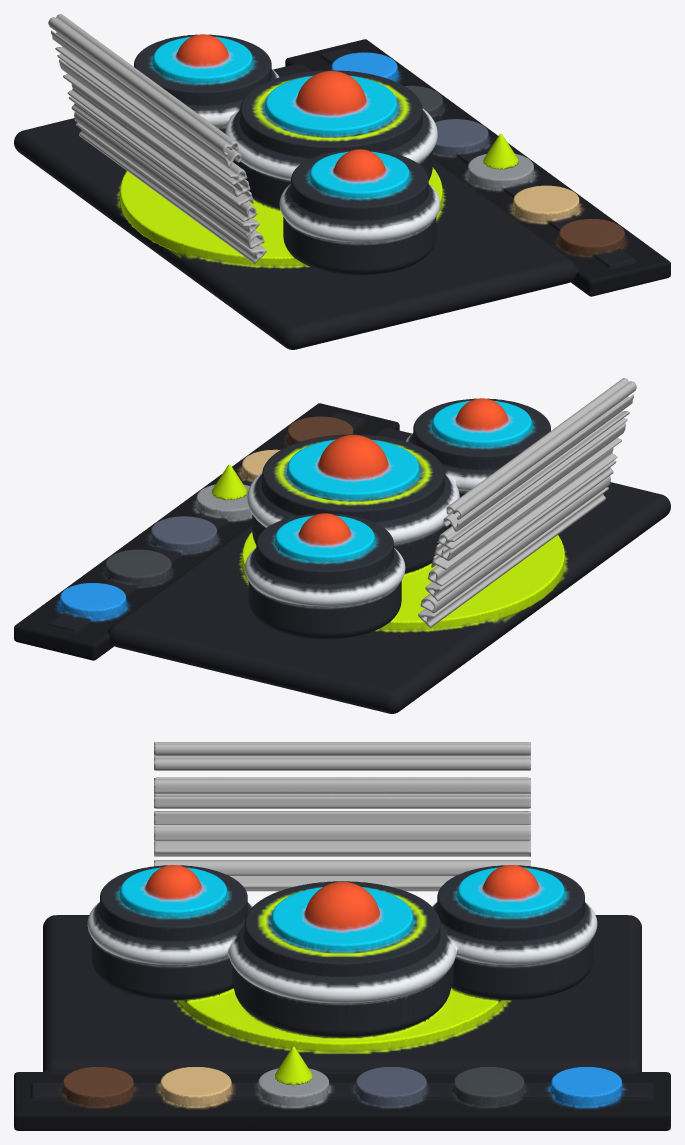
File: adapter_model.gltf
3 renders of one model, top to bottom at view 1: azimuth 30°, elevation 25°; view 2: azimuth 150°, elevation 25°; view 3: azimuth 270°, elevation 25°, orthographic. The views are drawn at different scales.
Visible parts, largest first — view 1: Nike Adapter 23 Outsole; view 2: Nike Adapter 23 Outsole; view 3: Nike Adapter 23 Outsole.
Part boxes in pixels (bbox=[...]): Nike Adapter 23 Outsole: bbox=[14, 14, 670, 349]; Nike Adapter 23 Outsole: bbox=[14, 378, 670, 713]; Nike Adapter 23 Outsole: bbox=[14, 742, 670, 1130].
Size of the model in its own units: 272 by 122 by 376.
Materials: 1 (1 with a texture image).
